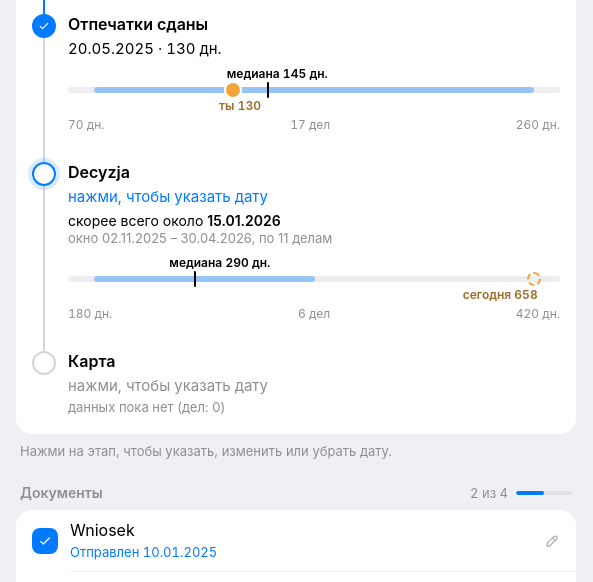
Scenario: Case screen › checks the milestone order locally
(page scrolled)
Expected: the button "Wniosek" is shown, 70,520 -> 532,541
Click the button "decyzja" at (322, 242), box 68,148 -> 576,337
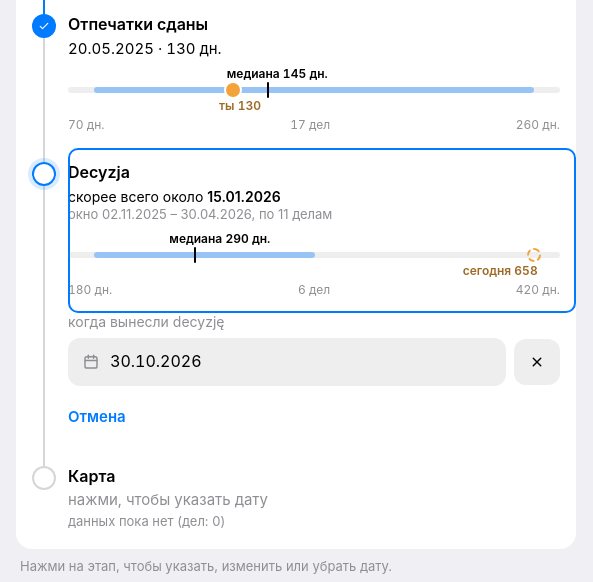
Type "2025-04-01" into the date field named "decyzja" at (301, 362), box 110,338 -> 492,385
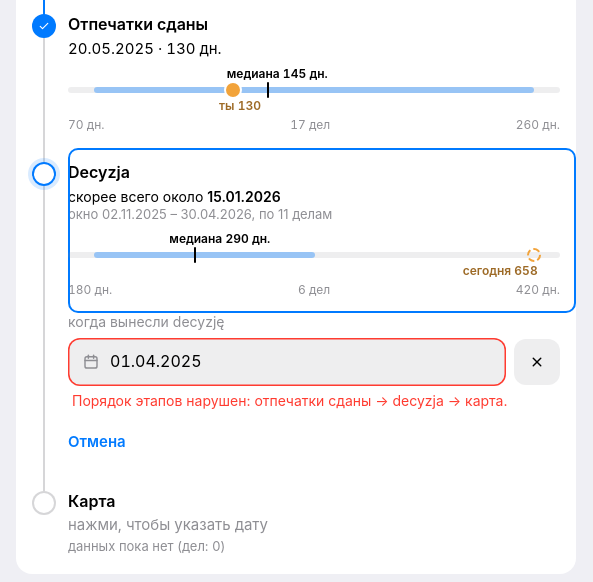
Result: the text "Порядок этапов нарушен: отпечатки сданы → decyzja → карта." is shown at 68,392 -> 560,410
